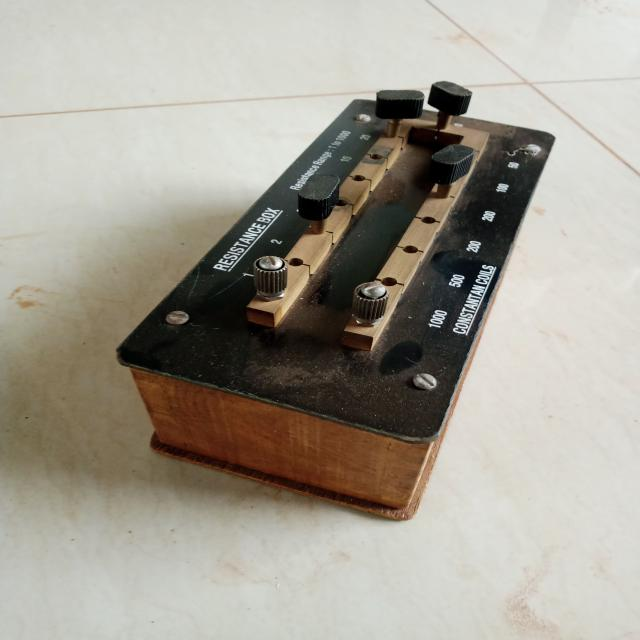Pinned Resistance Box: (115, 55, 580, 527)
